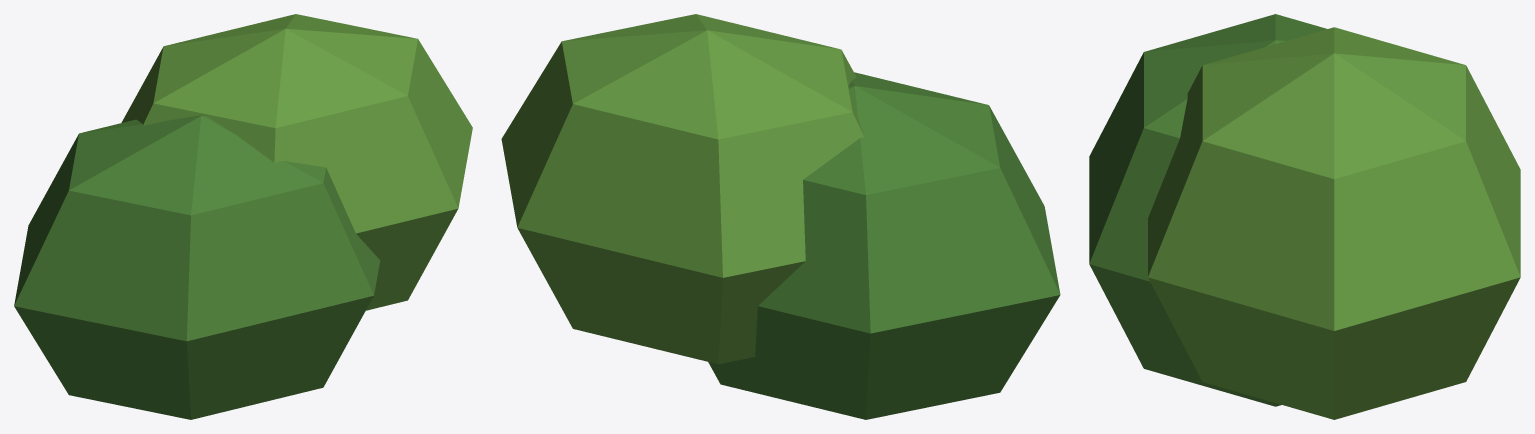
Rendered from bush_round_lod1.obj.
3 renders of one model, left to right at view 1: azimuth 30°, elevation 25°; view 2: azimuth 150°, elevation 25°; view 3: azimuth 270°, elevation 25°, orthographic. The views are drawn at different scales.
Parts seen in each view (by area): view 1: bush_round_lod1; view 2: bush_round_lod1; view 3: bush_round_lod1.
Part boxes in pixels (x1,y1,x2,y2): bush_round_lod1: (14,14,472,419); bush_round_lod1: (501,14,1060,419); bush_round_lod1: (1089,14,1520,419).
Size of the model in its own units: 1.68 by 1.1 by 1.1.
Materials: 1 (1 with a texture image).
